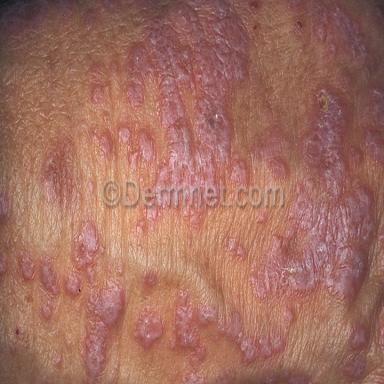lichen: (252, 87, 376, 301), (125, 2, 248, 186), (287, 2, 379, 82), (169, 288, 217, 383), (84, 282, 124, 382), (218, 311, 283, 363), (42, 136, 75, 208), (252, 125, 292, 179), (73, 221, 99, 283), (341, 322, 369, 379), (363, 88, 384, 164), (133, 311, 163, 347), (129, 129, 155, 168), (255, 367, 312, 384), (134, 207, 161, 236), (40, 258, 59, 294), (92, 129, 113, 156), (223, 233, 245, 258), (230, 159, 248, 186), (181, 209, 204, 230), (19, 253, 35, 280), (65, 273, 81, 295), (215, 368, 235, 384), (91, 81, 103, 104), (119, 125, 132, 145), (41, 300, 53, 319), (0, 194, 9, 219), (144, 271, 157, 287), (90, 61, 101, 79), (283, 306, 294, 322), (352, 148, 362, 163)
